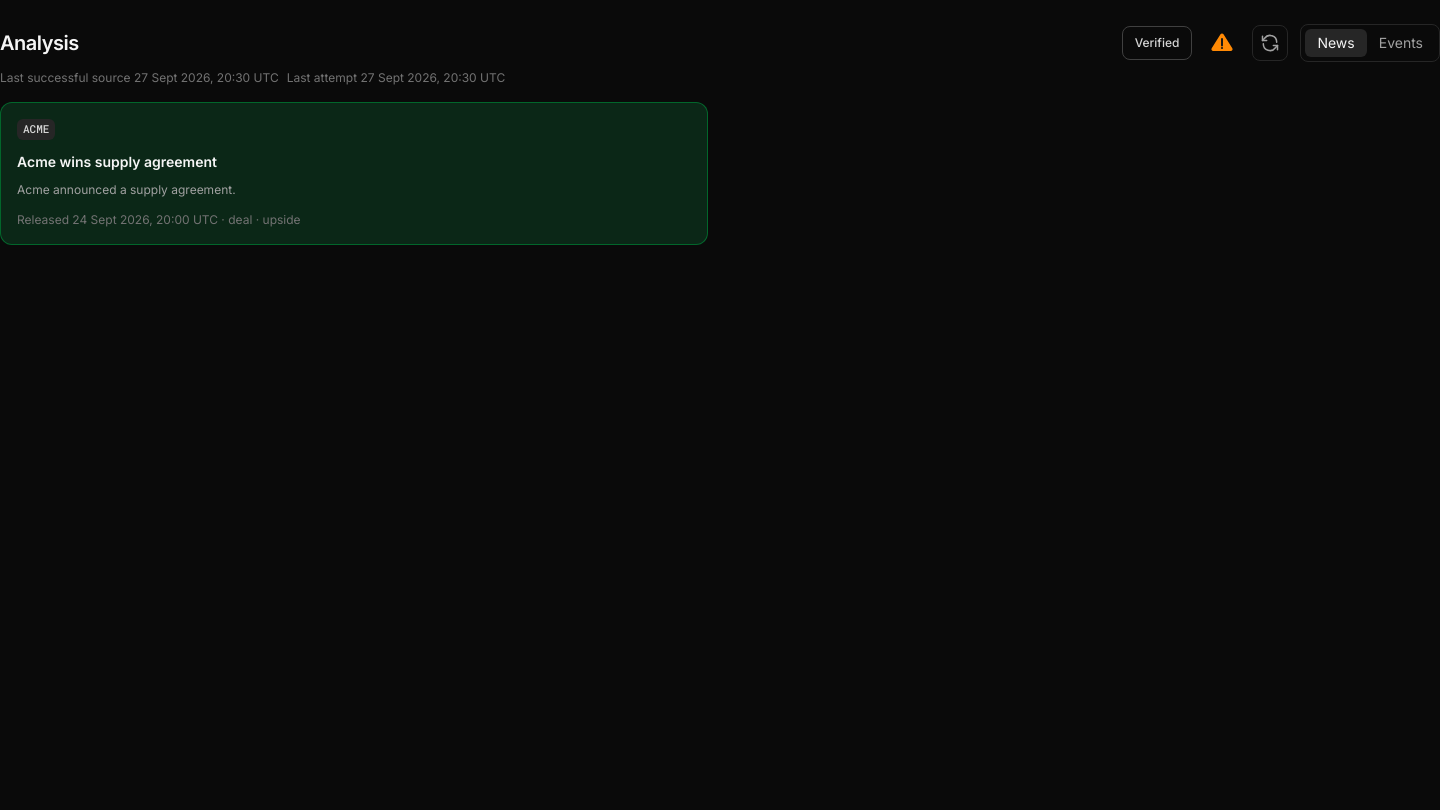
NewsSection › shows deferred job counts only inside the popup even without a source error
Expected: the text "Last run: 2 succeeded" is not shown
Hover over the button named "News collection errors" at (1222, 43), box [1204,25,1240,61]
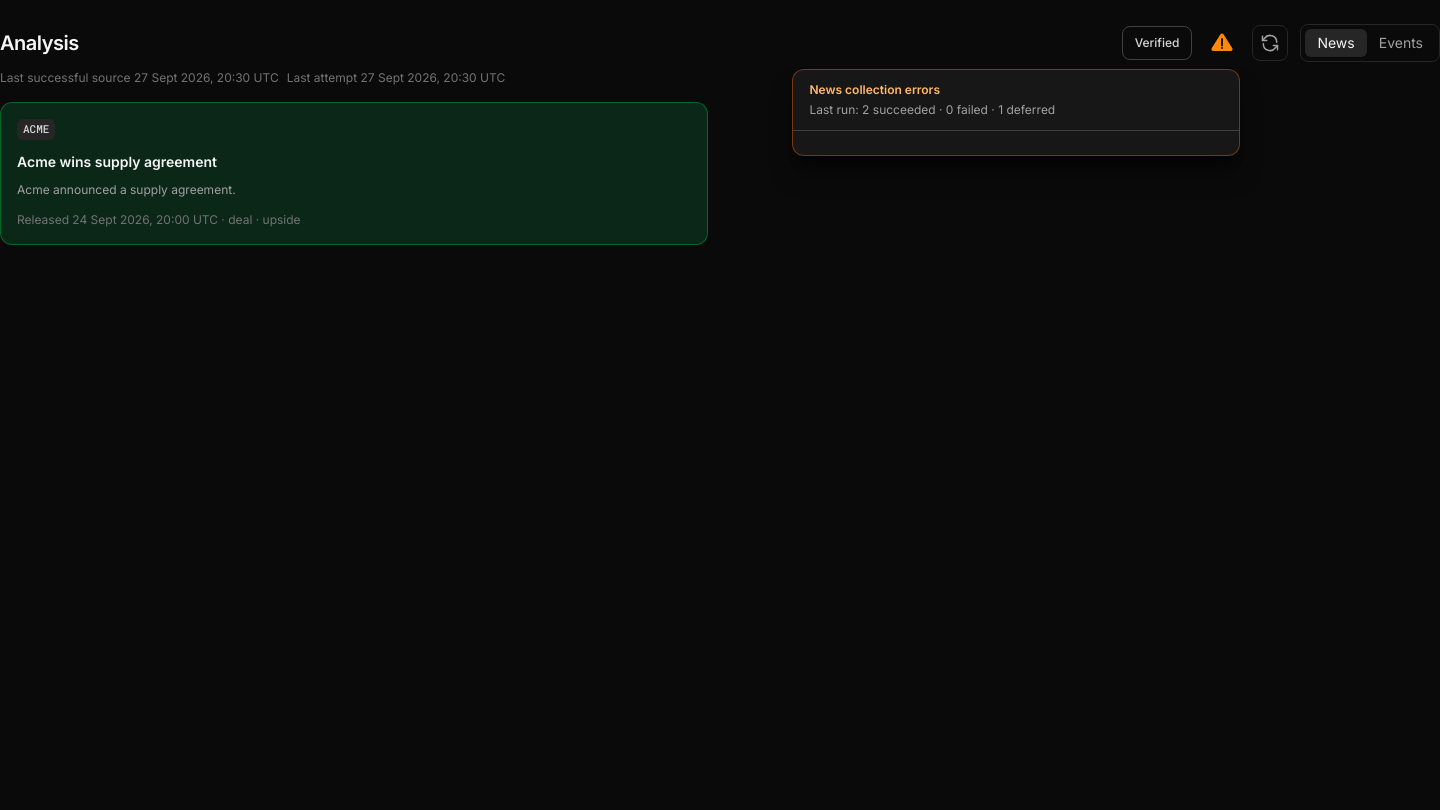
Expected: the text "Last run: 2 succeeded · 0 failed · 1 deferred" is shown, [809,102,1055,117]
